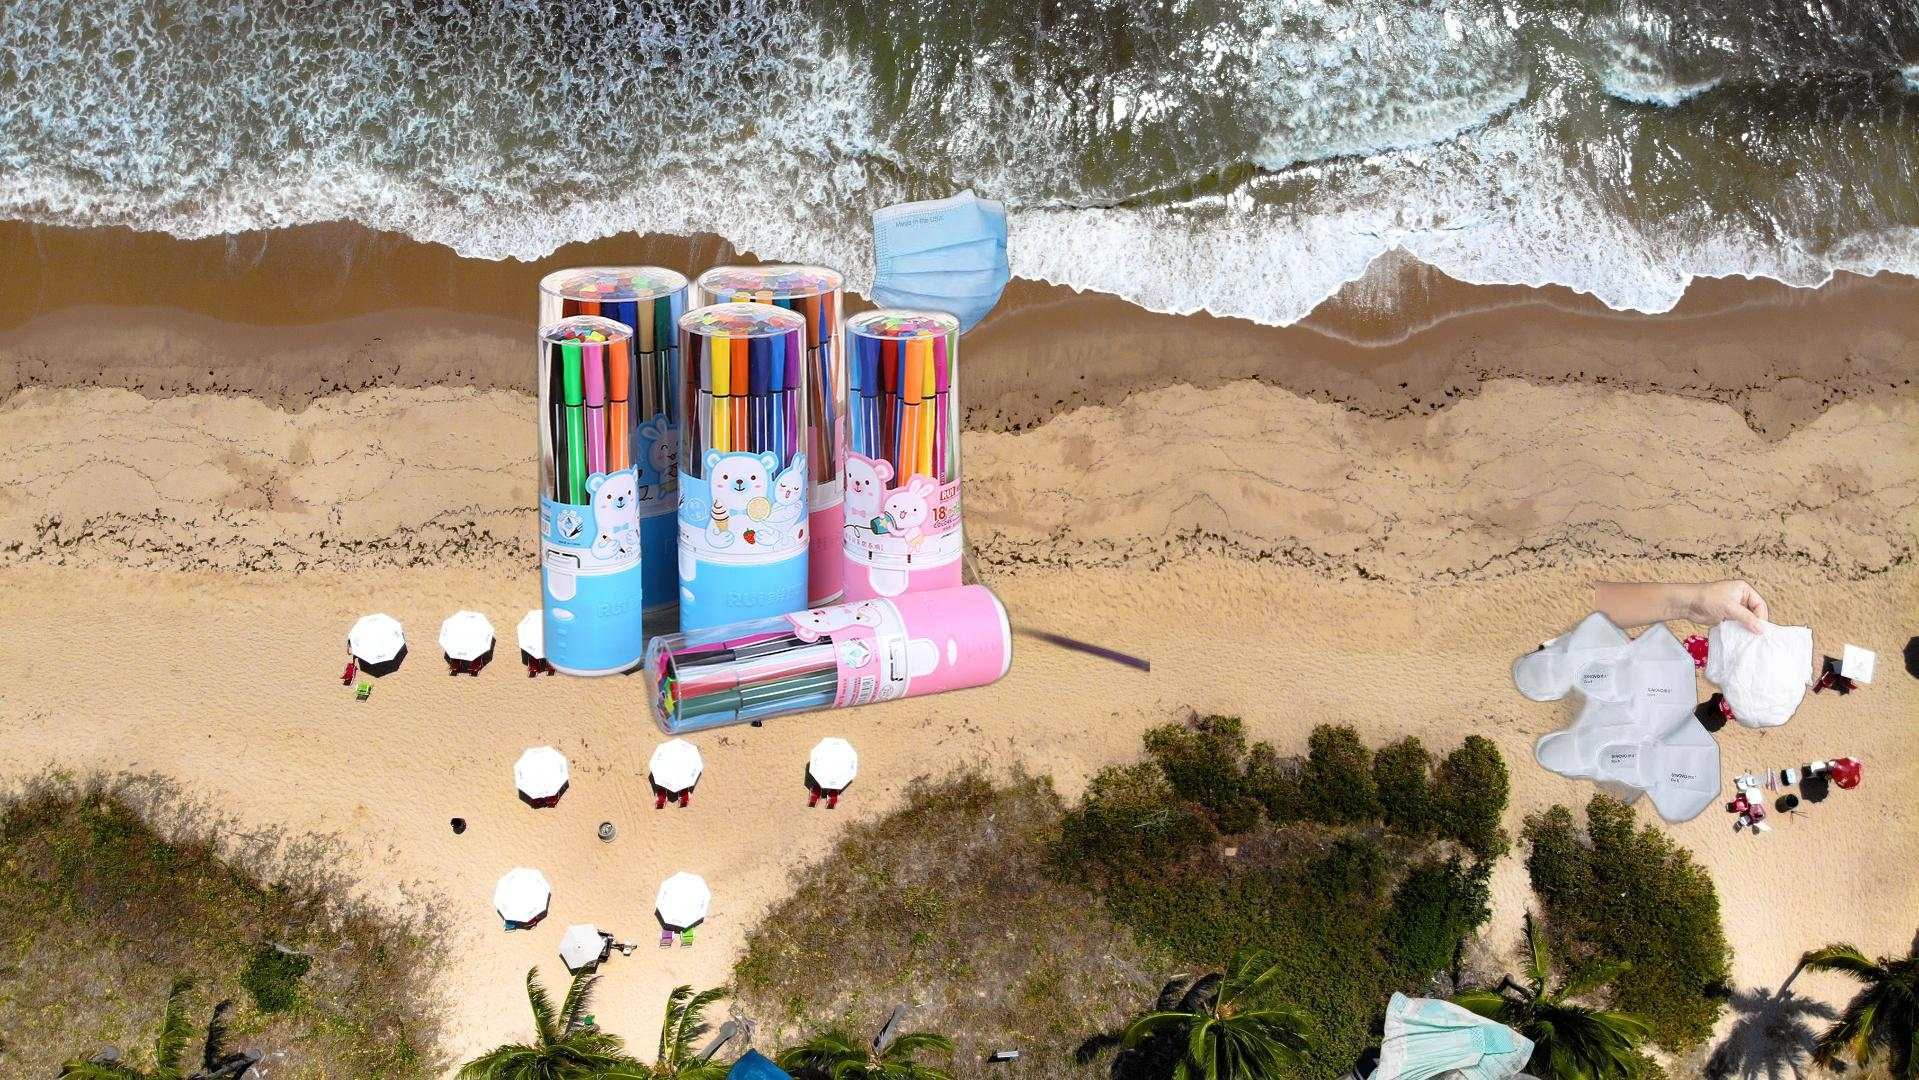clothes: (1222, 1039, 1616, 1080)
penholder: (531, 257, 1150, 742)
plastic-bag: (712, 1046, 975, 1080)
trash: (1506, 605, 1730, 830), (1595, 576, 1817, 731), (867, 185, 1013, 340), (1362, 988, 1538, 1080)
